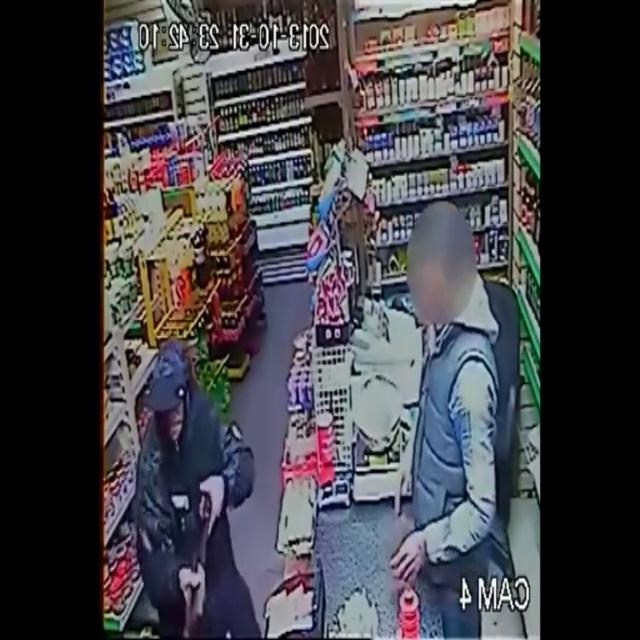gun: (172, 480, 228, 636)
